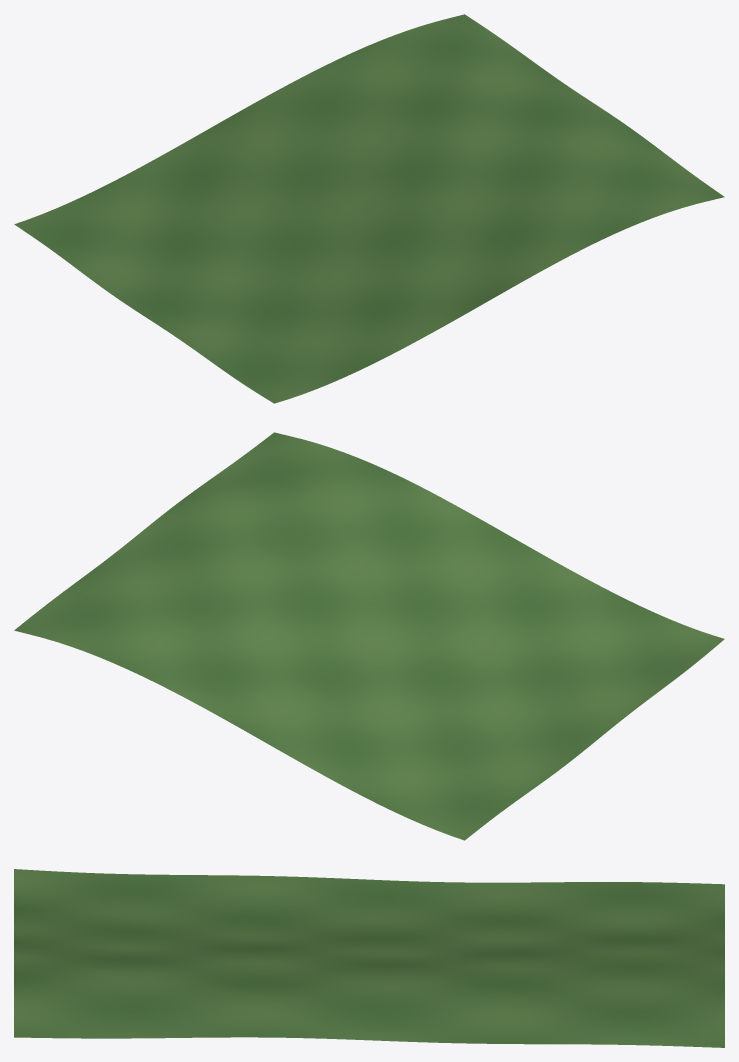
Rendered from chunk_12_10.glb.
3 renders of one model, top to bottom at view 1: azimuth 30°, elevation 25°; view 2: azimuth 150°, elevation 25°; view 3: azimuth 270°, elevation 25°, orthographic. The views are drawn at different scales.
Size of the model in its own units: 512 by 117 by 512.
